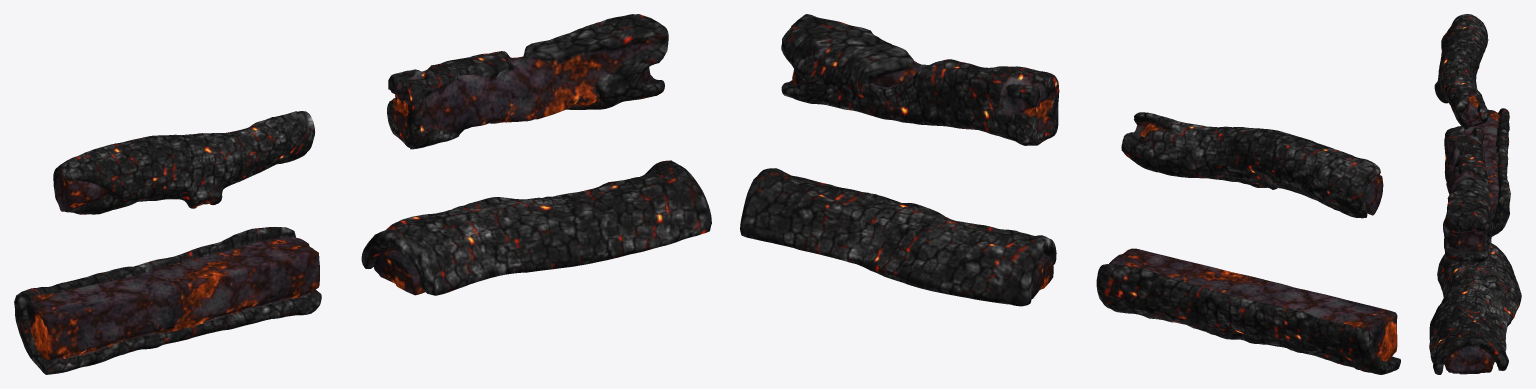
The model's file is firewood-compact.glb.
3 views of the same model, side by side, from view 1: azimuth 30°, elevation 25°; view 2: azimuth 150°, elevation 25°; view 3: azimuth 270°, elevation 25° (orthographic). The views are drawn at different scales.
Parts seen in each view (by area): view 1: Madera3, Madera4, Madera2, Madera1; view 2: Madera4, Madera2, Madera3, Madera1; view 3: Madera4, Madera2, Madera1, Madera3.
Boxes of the visible parts, x1,y1,x2,y2 form: Madera3: (14,227,321,374); Madera4: (361,160,711,295); Madera2: (387,14,668,149); Madera1: (53,111,314,214); Madera4: (740,168,1056,306); Madera2: (781,14,1059,145); Madera3: (1096,248,1400,374); Madera1: (1121,112,1383,218); Madera4: (1429,243,1521,374); Madera2: (1443,126,1493,262); Madera1: (1434,14,1488,129); Madera3: (1465,108,1510,236).
Bounding box in the file's own units: 0.3027 × 0.0943 × 0.0524.
4 materials, 4 textured.
